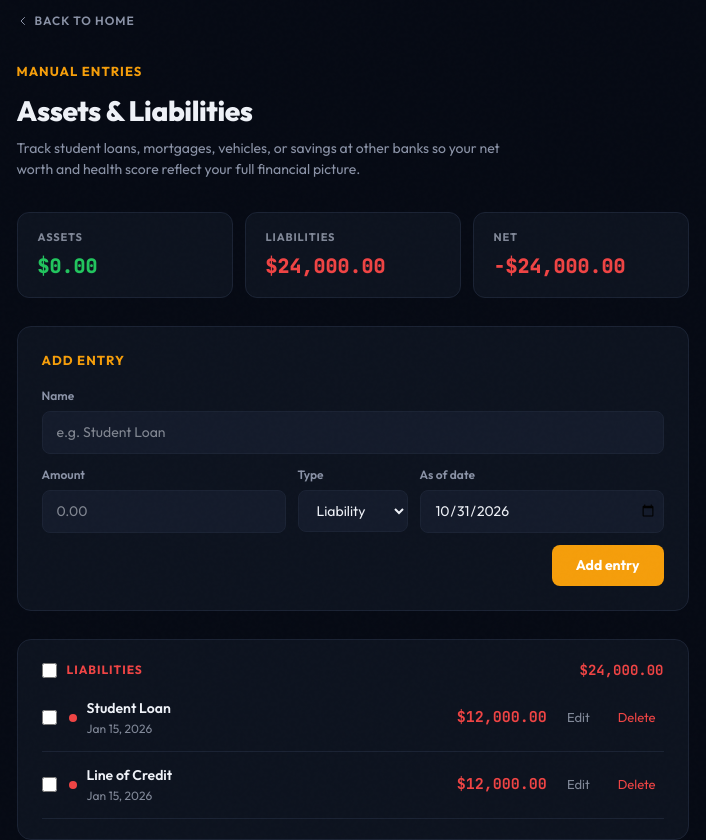
Test: ManualEntriesPage › selects a whole section at once
Click the checkbox named "Select all liabilities" at (49, 670), box [42,662,56,678]
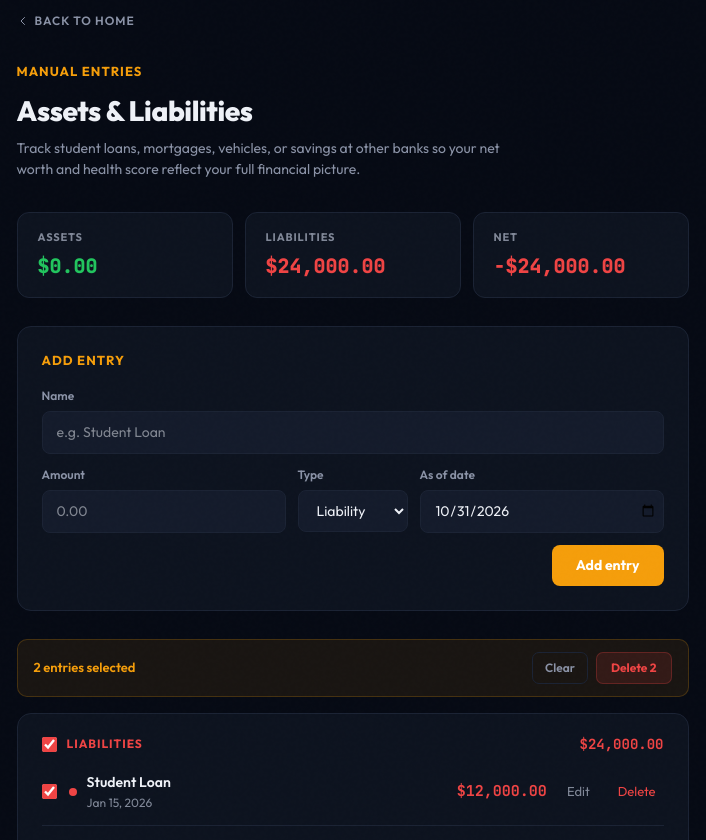
Expected: the text "2 entries selected" is shown, [34,658,136,677]
